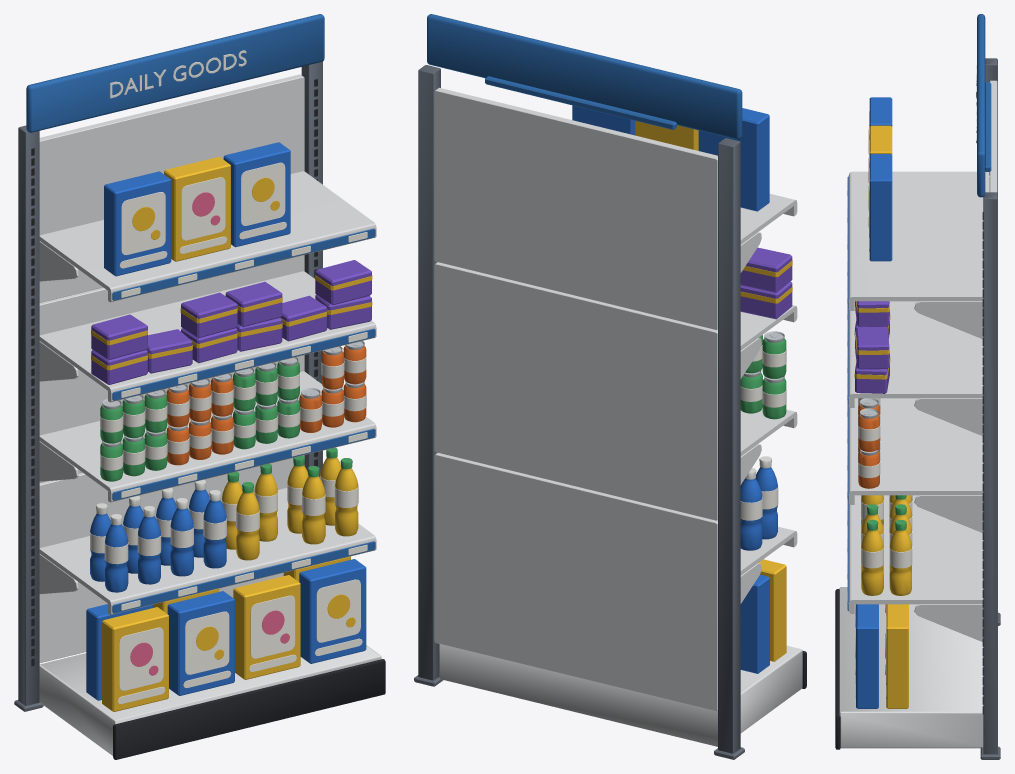
File: Shelf_Stocked.fbx
3 views of the same model, side by side, from view 1: azimuth 30°, elevation 25°; view 2: azimuth 150°, elevation 25°; view 3: azimuth 270°, elevation 25° (orthographic). The views are drawn at different scales.
Visible parts, largest first — view 1: Shelf_BackPanel, Shelf_Stock_Label, Shelf_Stock_Prod_Blue, Shelf_Stock_Prod_Yellow, Shelf_Uprights, Shelf_Stock_Prod_Purple, Shelf_Header, Shelf_Board_4, Shelf_KickPlate, Shelf_Board_1, Shelf_Board_3, Shelf_PriceStrips (+10 smaller); view 2: Shelf_BackPanel, Shelf_Uprights, Shelf_Header, Shelf_Base, Shelf_Stock_Prod_Blue, Shelf_Stock_Prod_Yellow, Shelf_Stock_Prod_Purple, Shelf_Stock_Prod_Green, Shelf_Board_2, Shelf_Stock_Label, Shelf_Board_4, Shelf_Board_3 (+1 smaller); view 3: Shelf_Board_4, Shelf_Base, Shelf_Board_2, Shelf_Board_1, Shelf_Board_3, Shelf_Uprights, Shelf_Stock_Prod_Yellow, Shelf_Stock_Prod_Blue, Shelf_Stock_Prod_Purple, Shelf_Stock_Label, Shelf_Header, Shelf_Stock_Paint_Orange (+6 smaller).
Part boxes in pixels (x1,y1,x2,y2): Shelf_BackPanel: (39,74,304,662); Shelf_Stock_Label: (90,162,366,704); Shelf_Stock_Prod_Blue: (86,142,366,700); Shelf_Stock_Prod_Yellow: (91,156,372,711); Shelf_Uprights: (14,61,322,711); Shelf_Stock_Prod_Purple: (91,260,371,384); Shelf_Header: (26,14,324,132); Shelf_Board_4: (39,171,376,302); Shelf_KickPlate: (113,659,385,759); Shelf_Board_1: (39,488,376,614); Shelf_Board_3: (39,271,376,402); Shelf_PriceStrips: (112,228,375,613); Shelf_BackPanel: (434,87,717,711); Shelf_Uprights: (414,65,744,759); Shelf_Header: (427,14,742,139); Shelf_Base: (439,644,802,746); Shelf_Stock_Prod_Blue: (572,105,777,673); Shelf_Stock_Prod_Yellow: (635,121,792,661); Shelf_Stock_Prod_Purple: (740,247,792,319); Shelf_Stock_Prod_Green: (740,335,786,419); Shelf_Board_2: (740,408,797,484); Shelf_Stock_Label: (740,345,786,520); Shelf_Board_4: (740,194,797,272); Shelf_Board_3: (740,305,797,378); Shelf_Board_4: (848,171,989,338); Shelf_Base: (839,587,983,748); Shelf_Board_2: (848,398,983,532); Shelf_Board_1: (848,495,983,641); Shelf_Board_3: (848,301,983,435); Shelf_Uprights: (980,58,1000,759); Shelf_Stock_Prod_Yellow: (854,125,912,708); Shelf_Stock_Prod_Blue: (856,97,892,708); Shelf_Stock_Prod_Purple: (855,301,889,393); Shelf_Stock_Label: (855,111,912,698); Shelf_Header: (977,14,991,197); Shelf_Stock_Paint_Orange: (858,404,880,488).
Size of the model in its own units: 102 by 200 by 49.4.
